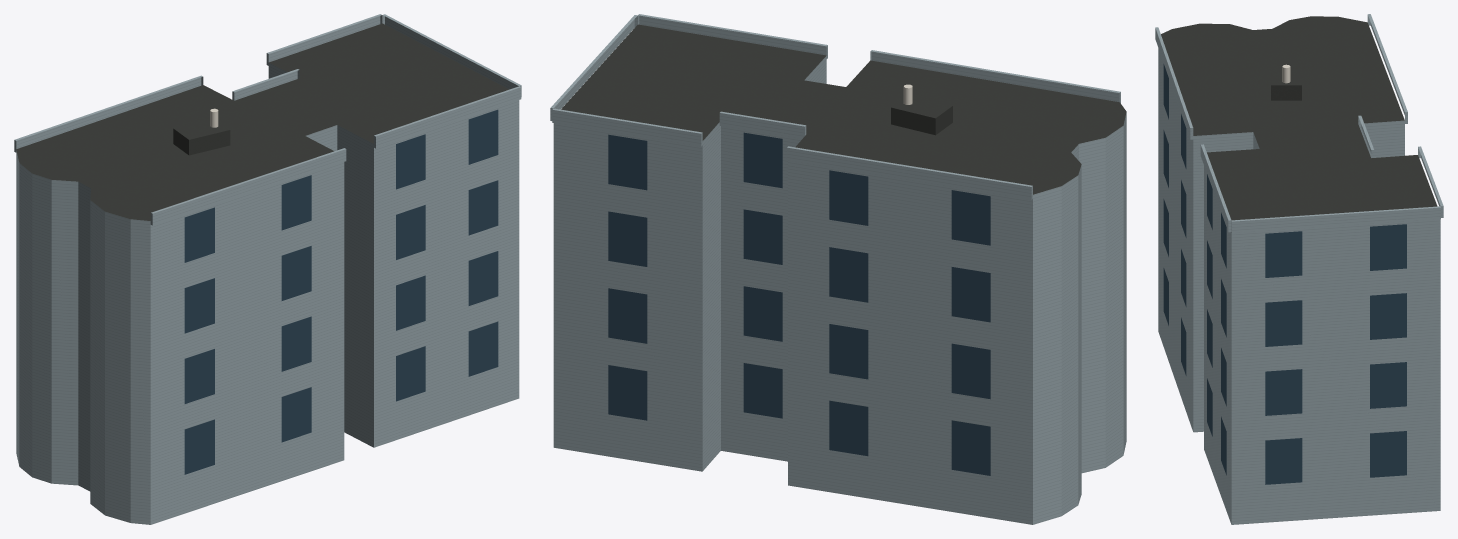
3 renders of one model, left to right at view 1: azimuth 30°, elevation 25°; view 2: azimuth 150°, elevation 25°; view 3: azimuth 270°, elevation 25°, orthographic. The views are drawn at different scales.
Parts seen in each view (by area): view 1: Footprint 0 / surface 2, Footprint 0 / surface 1, Inset glazing, Facade bay volumes, Inferred rooftop service enclosure / surface 5, Inferred rooftop service enclosure / surface 3; view 2: Footprint 0 / surface 2, Footprint 0 / surface 1, Inset glazing, Facade bay volumes, Inferred rooftop service enclosure / surface 6, Inferred rooftop service enclosure / surface 3; view 3: Footprint 0 / surface 2, Footprint 0 / surface 1, Inset glazing, Facade bay volumes, Inferred rooftop service enclosure / surface 3, Inferred rooftop service enclosure / surface 1.
Boxes of the visible parts, <box> form: Footprint 0 / surface 2: <box>16,63,519,524</box>; Footprint 0 / surface 1: <box>16,23,508,220</box>; Inset glazing: <box>184,109,498,474</box>; Facade bay volumes: <box>14,14,521,225</box>; Inferred rooftop service enclosure / surface 5: <box>189,130,230,155</box>; Inferred rooftop service enclosure / surface 3: <box>173,119,229,139</box>; Footprint 0 / surface 2: <box>553,56,1126,524</box>; Footprint 0 / surface 1: <box>561,24,1126,194</box>; Inset glazing: <box>608,132,990,475</box>; Facade bay volumes: <box>550,14,1120,199</box>; Inferred rooftop service enclosure / surface 6: <box>891,107,935,135</box>; Inferred rooftop service enclosure / surface 3: <box>891,96,952,118</box>; Footprint 0 / surface 2: <box>1158,48,1440,524</box>; Footprint 0 / surface 1: <box>1161,16,1437,220</box>; Inset glazing: <box>1163,64,1406,484</box>; Facade bay volumes: <box>1155,14,1443,233</box>; Inferred rooftop service enclosure / surface 3: <box>1271,65,1301,85</box>; Inferred rooftop service enclosure / surface 1: <box>1271,85,1301,100</box>.
Size of the model in its own units: 19.59 by 13.97 by 11.18.
